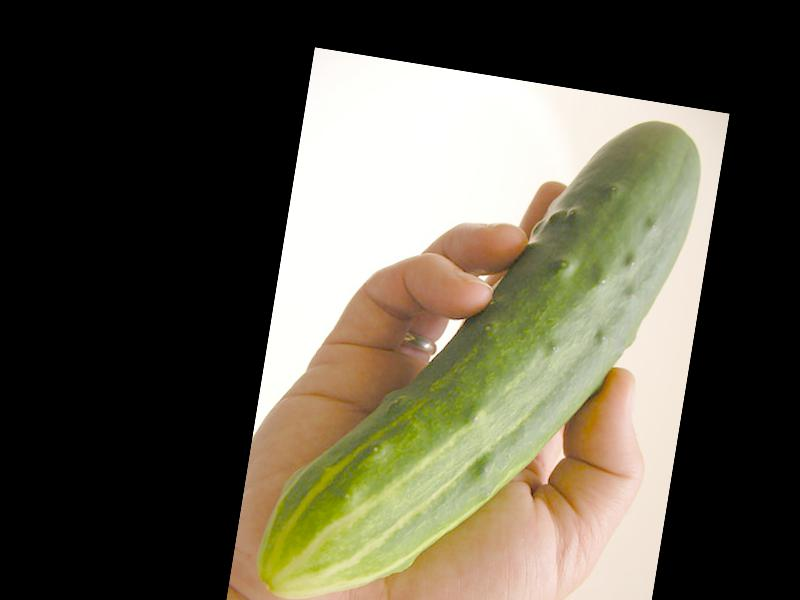Cucumber: (252, 69, 706, 600)
